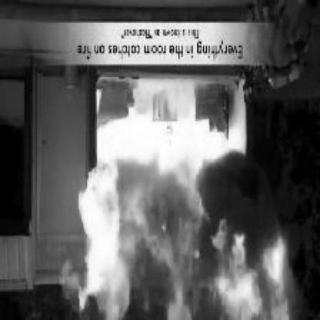Fire: (75, 82, 301, 320)
